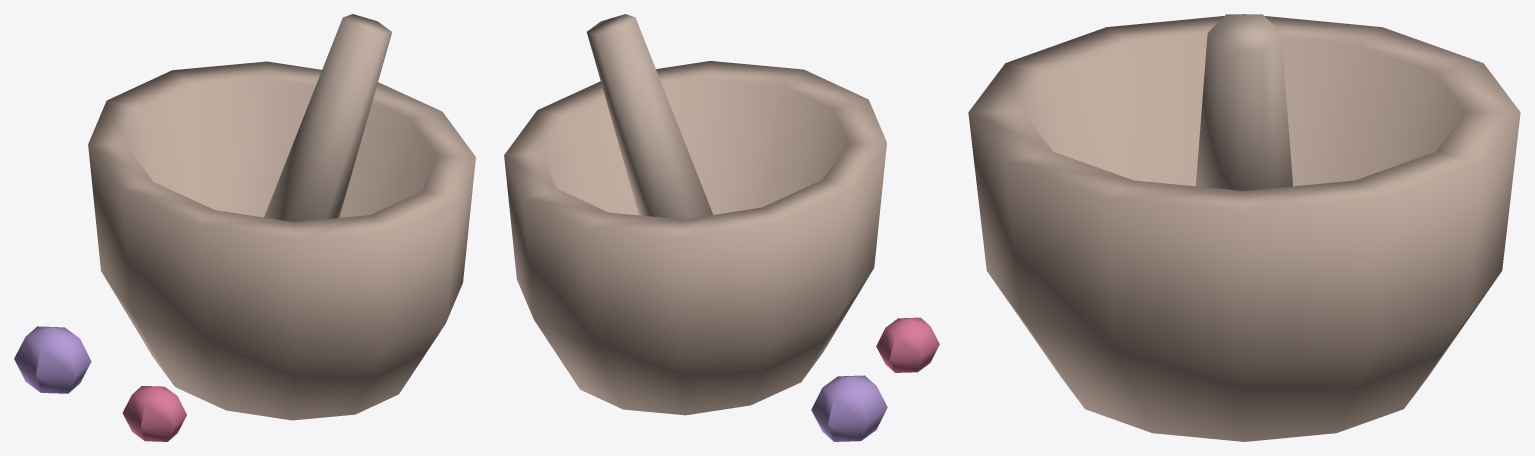
File: mortar_pestle.glb
The picture shows the model from 3 angles, left to right: view 1: azimuth 30°, elevation 25°; view 2: azimuth 150°, elevation 25°; view 3: azimuth 270°, elevation 25°; orthographic projection. The views are drawn at different scales.
Parts seen in each view (by area): view 1: mortar_pestle; view 2: mortar_pestle; view 3: mortar_pestle.
Part boxes in pixels (<box>): mortar_pestle: <box>14,14,475,441</box>; mortar_pestle: <box>504,14,939,441</box>; mortar_pestle: <box>968,14,1520,441</box>.
Size of what is drawn, in the model's own units: 0.3 by 0.25 by 0.3.
